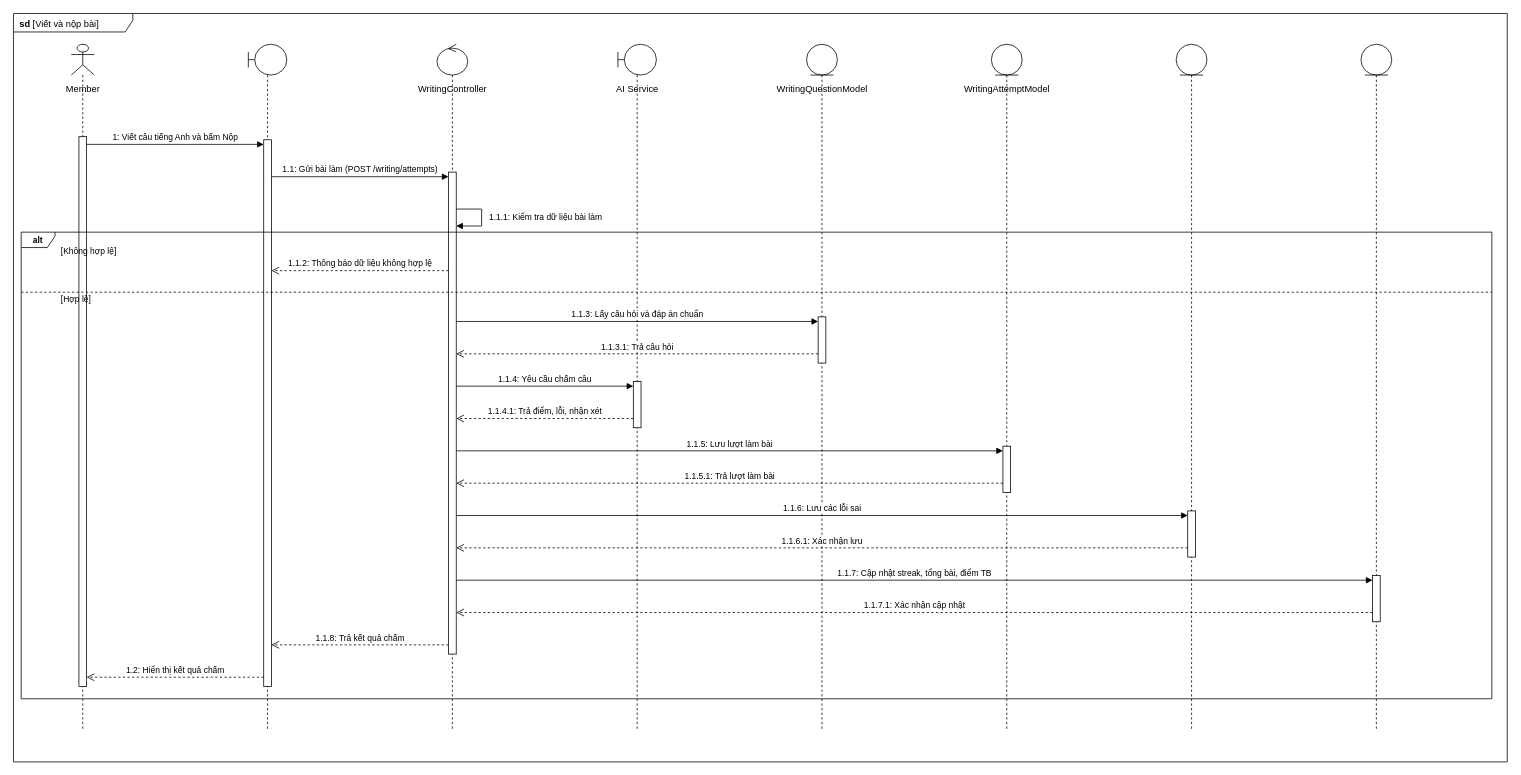
This 1521x775 diagram has some shape labels left out. Here are the shapes that lost their labels. From the top down, the box of each, then its label:
(248, 44, 287, 731): UI Làm bài
(1175, 44, 1207, 731): WritingErrorModel
(1360, 44, 1392, 731): UserModel
